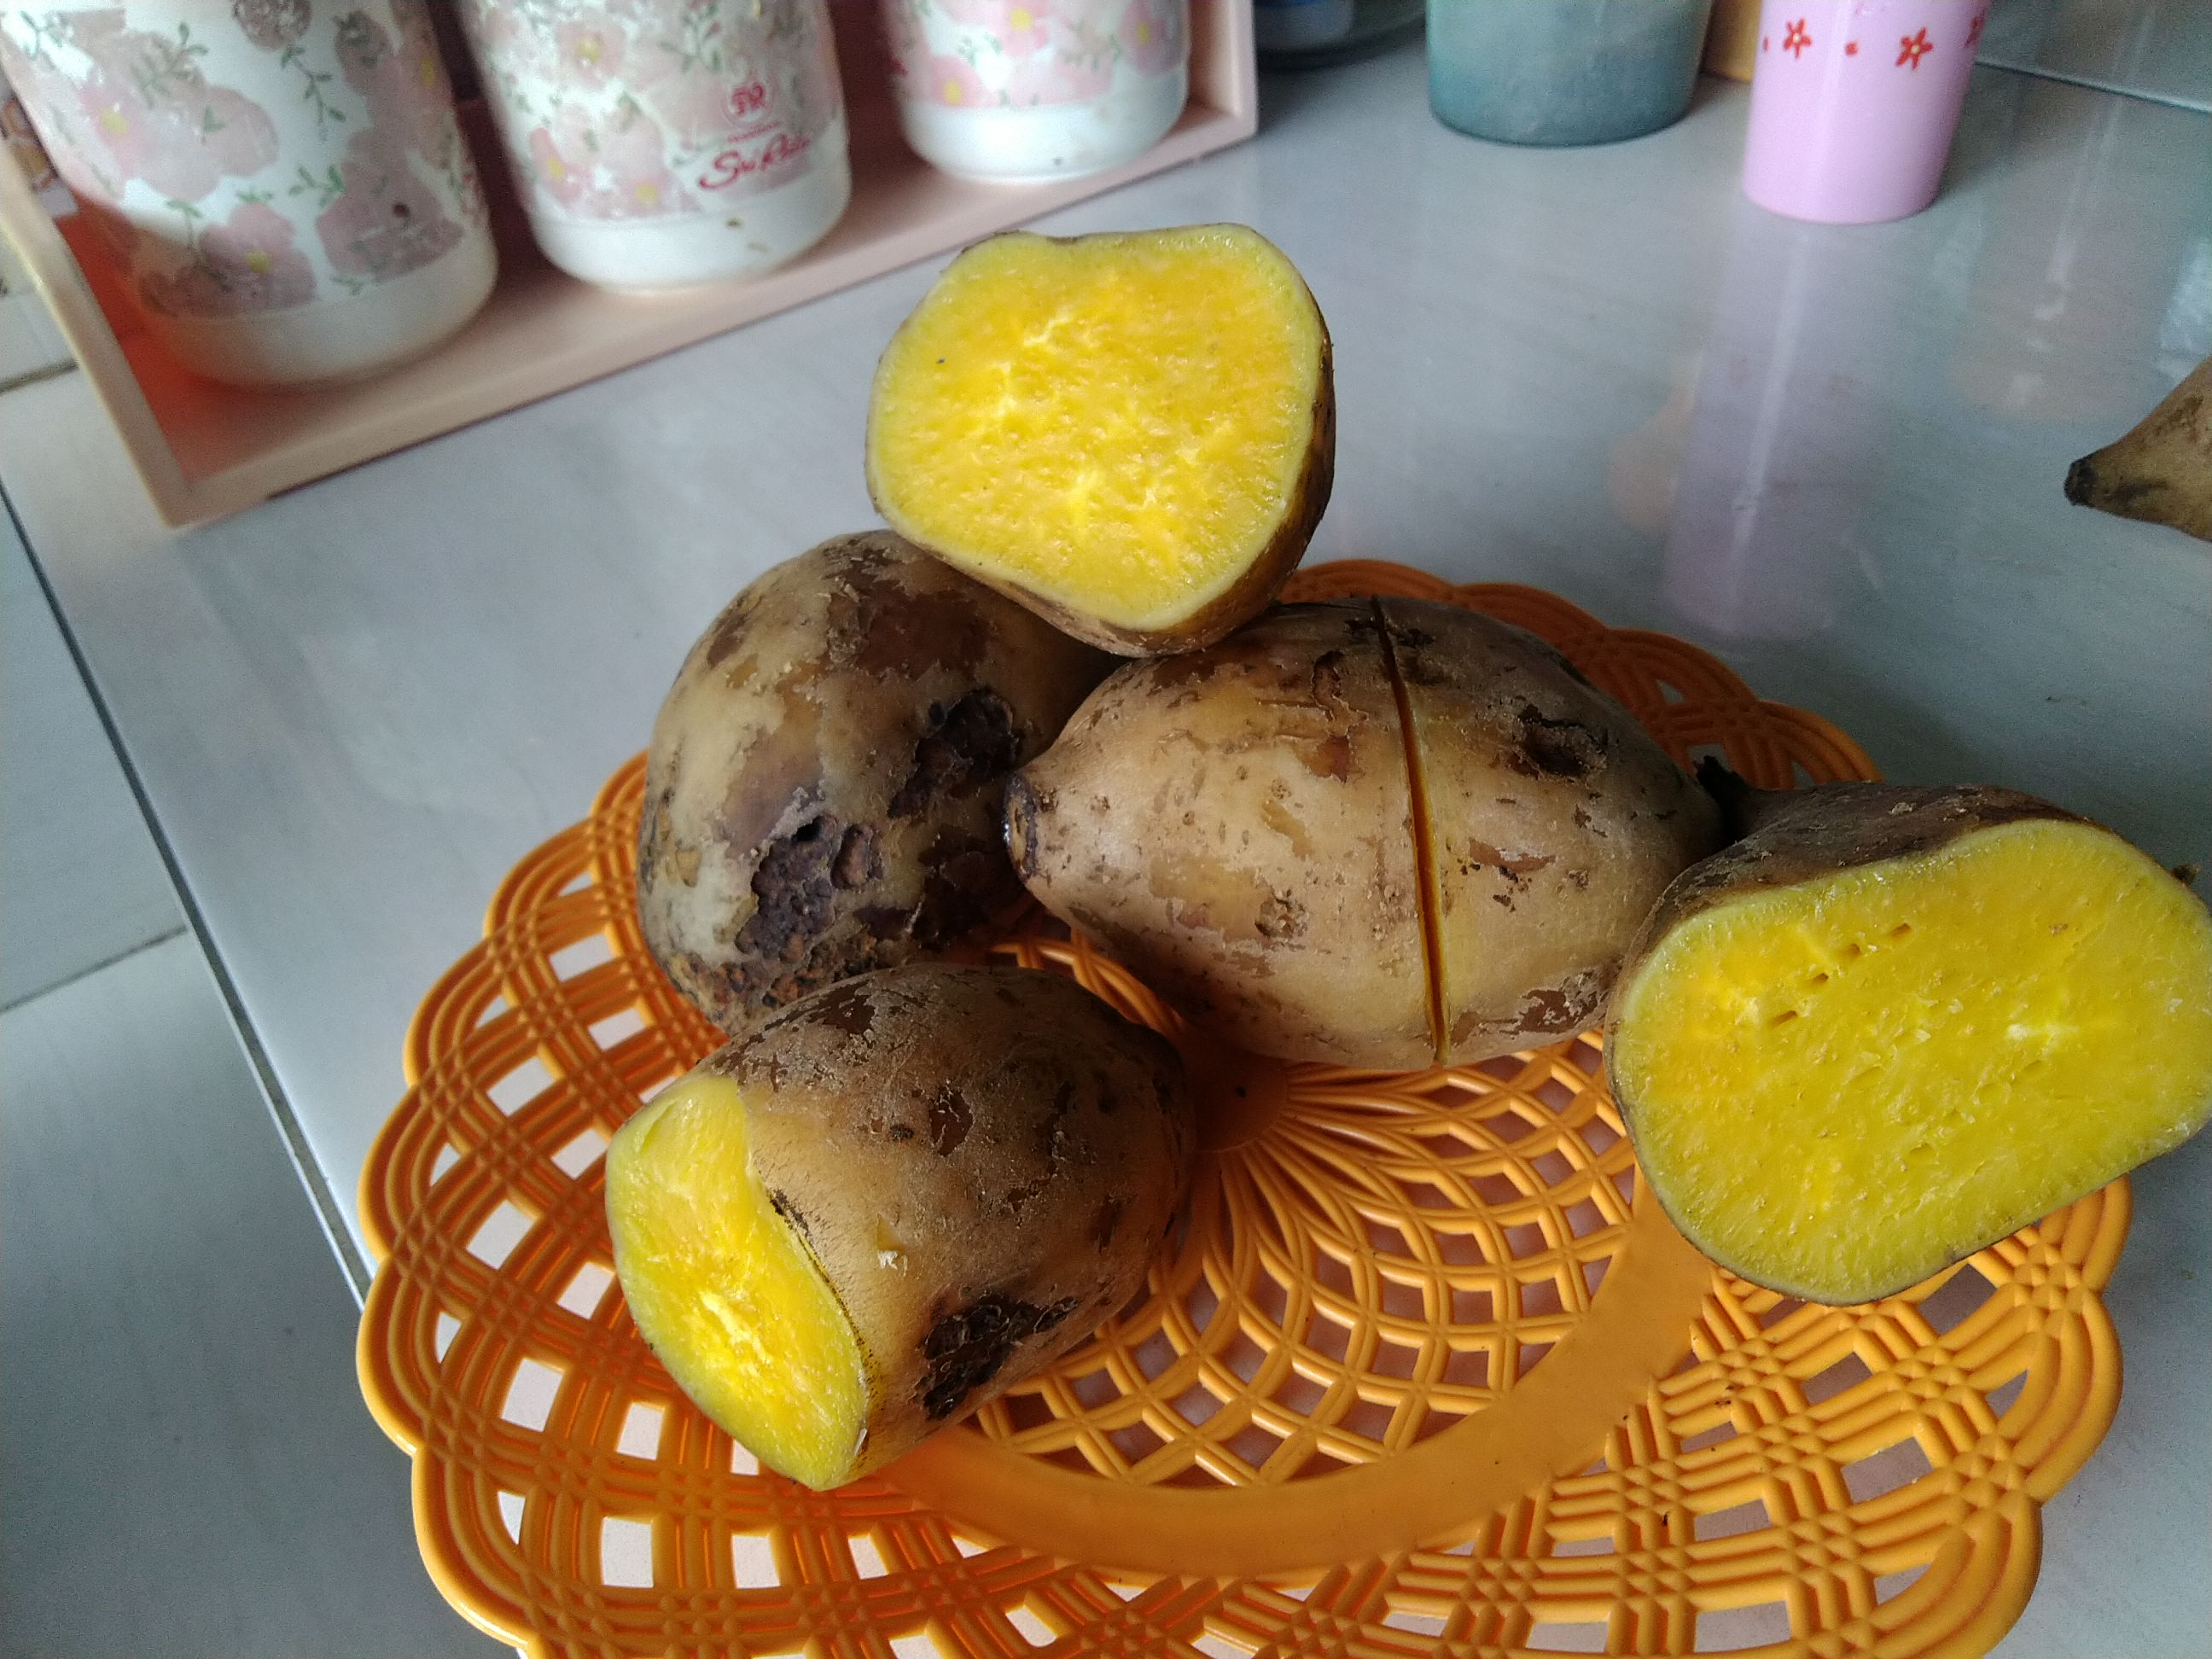ubi kuning: (1012, 582, 1740, 1098), (587, 951, 1258, 1509), (1608, 777, 2212, 1321), (857, 216, 1346, 674), (625, 521, 1055, 1032)
